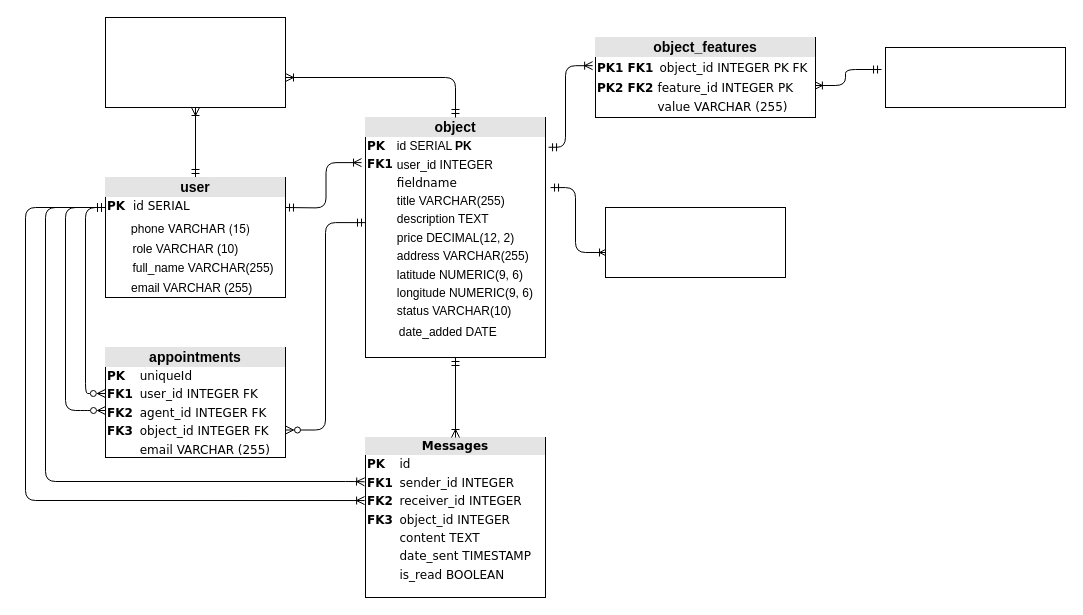
Some shapes in this 1083 by 615 pixel diagram are drawn without their labels. The shapes that lost their labels are listed below. From the top down, each one's box as (x1, y1, x2, y2) in pixels, then its label:
(104, 16, 286, 108): favorites PK id SERIAL FK1 user_id INTEGER FK2 object_id INTGER date_added DATE
(884, 46, 1066, 108): features PK id SERIAL name VARCHAR (255)
(604, 206, 786, 278): object_image PK image_id SERIAL FK1 object_id INT image_url VARCHAR (255)
